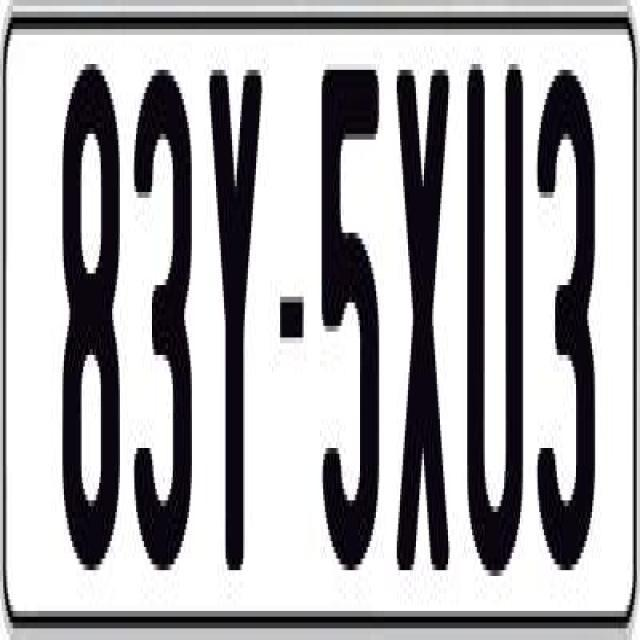3: (130, 63, 188, 600), (538, 70, 596, 600)
5: (322, 58, 382, 576)
8: (62, 52, 126, 564)
U: (464, 58, 528, 599)
X: (396, 58, 459, 570)
Y: (210, 64, 266, 594)
